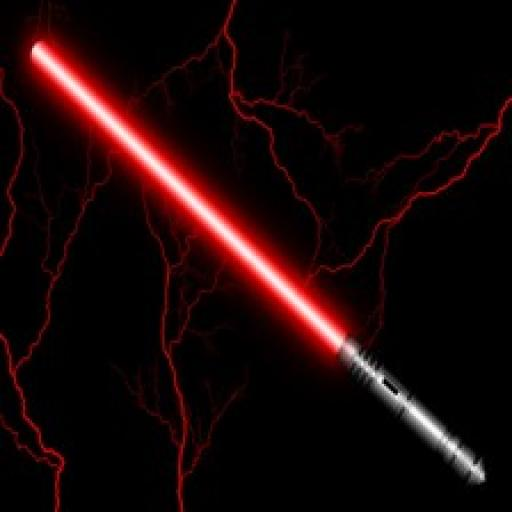sith saber: (30, 40, 488, 486)
